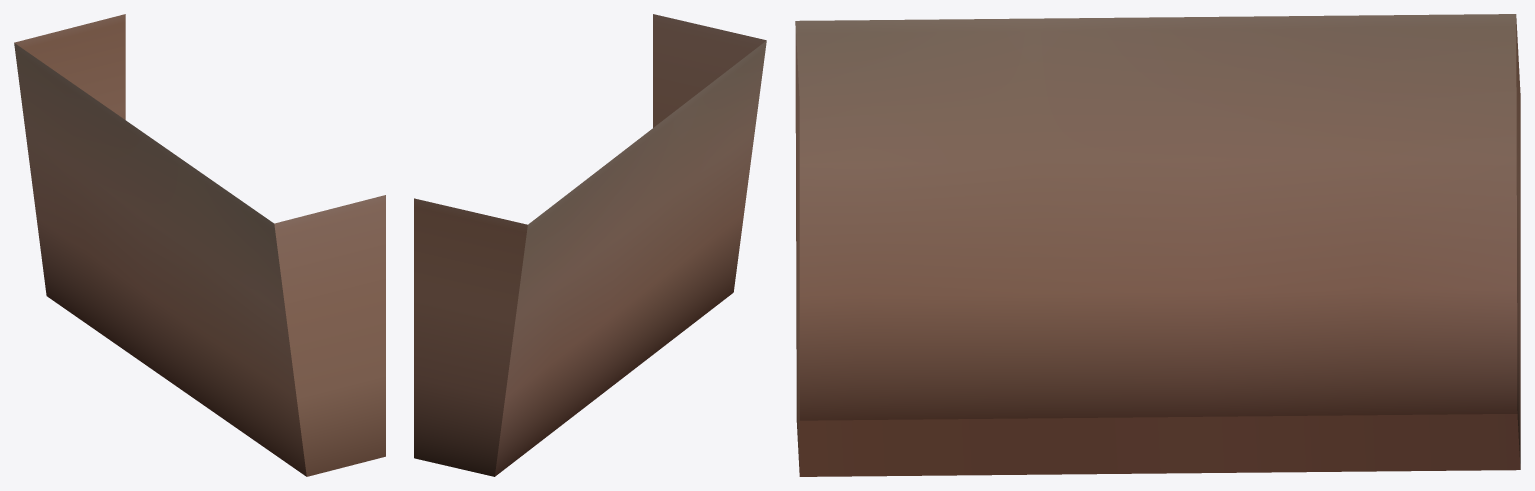
File: object_410_lev3.glb
3 views of the same model, side by side, from view 1: azimuth 30°, elevation 25°; view 2: azimuth 150°, elevation 25°; view 3: azimuth 270°, elevation 25° (orthographic). The views are drawn at different scales.
Parts seen in each view (by area): view 1: object_410_lev3; view 2: object_410_lev3; view 3: object_410_lev3.
Part boxes in pixels (x1=…): object_410_lev3: x1=14, y1=14, x2=385, y2=476; object_410_lev3: x1=414, y1=14, x2=766, y2=476; object_410_lev3: x1=795, y1=14, x2=1520, y2=476.
Size of the model in its own units: 0.0616 by 0.1253 by 0.2186.
Materials: 1 (1 with a texture image).
